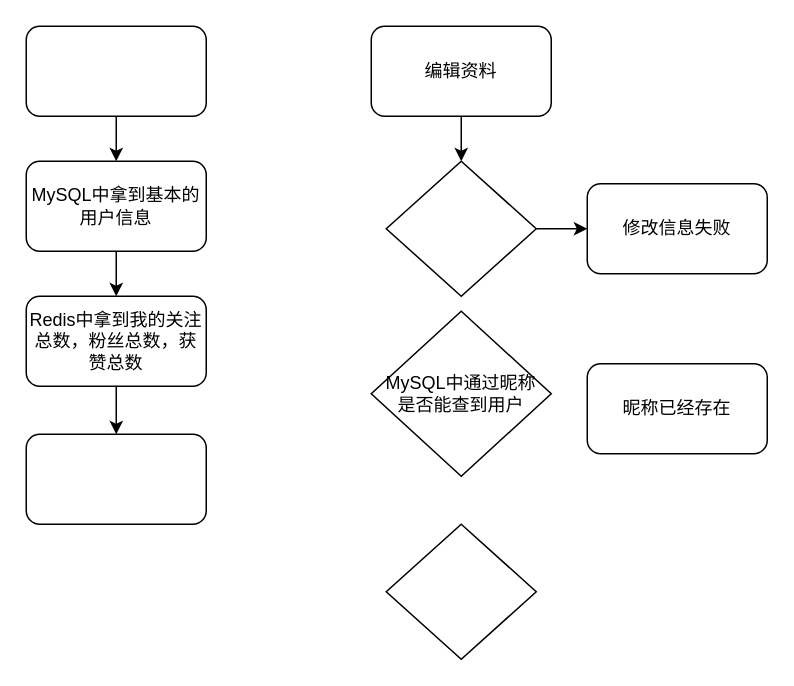
Image size: 794x686. Some labels were removed from this diagram. The shapes that lost their labels are listed below. From the top down, each one's centre as x and y in pixels, then its label:
At [115,70]: "查询用户信息".
At [460,228]: "是否是六种 属性的一种".
At [115,478]: "返回给前端".
